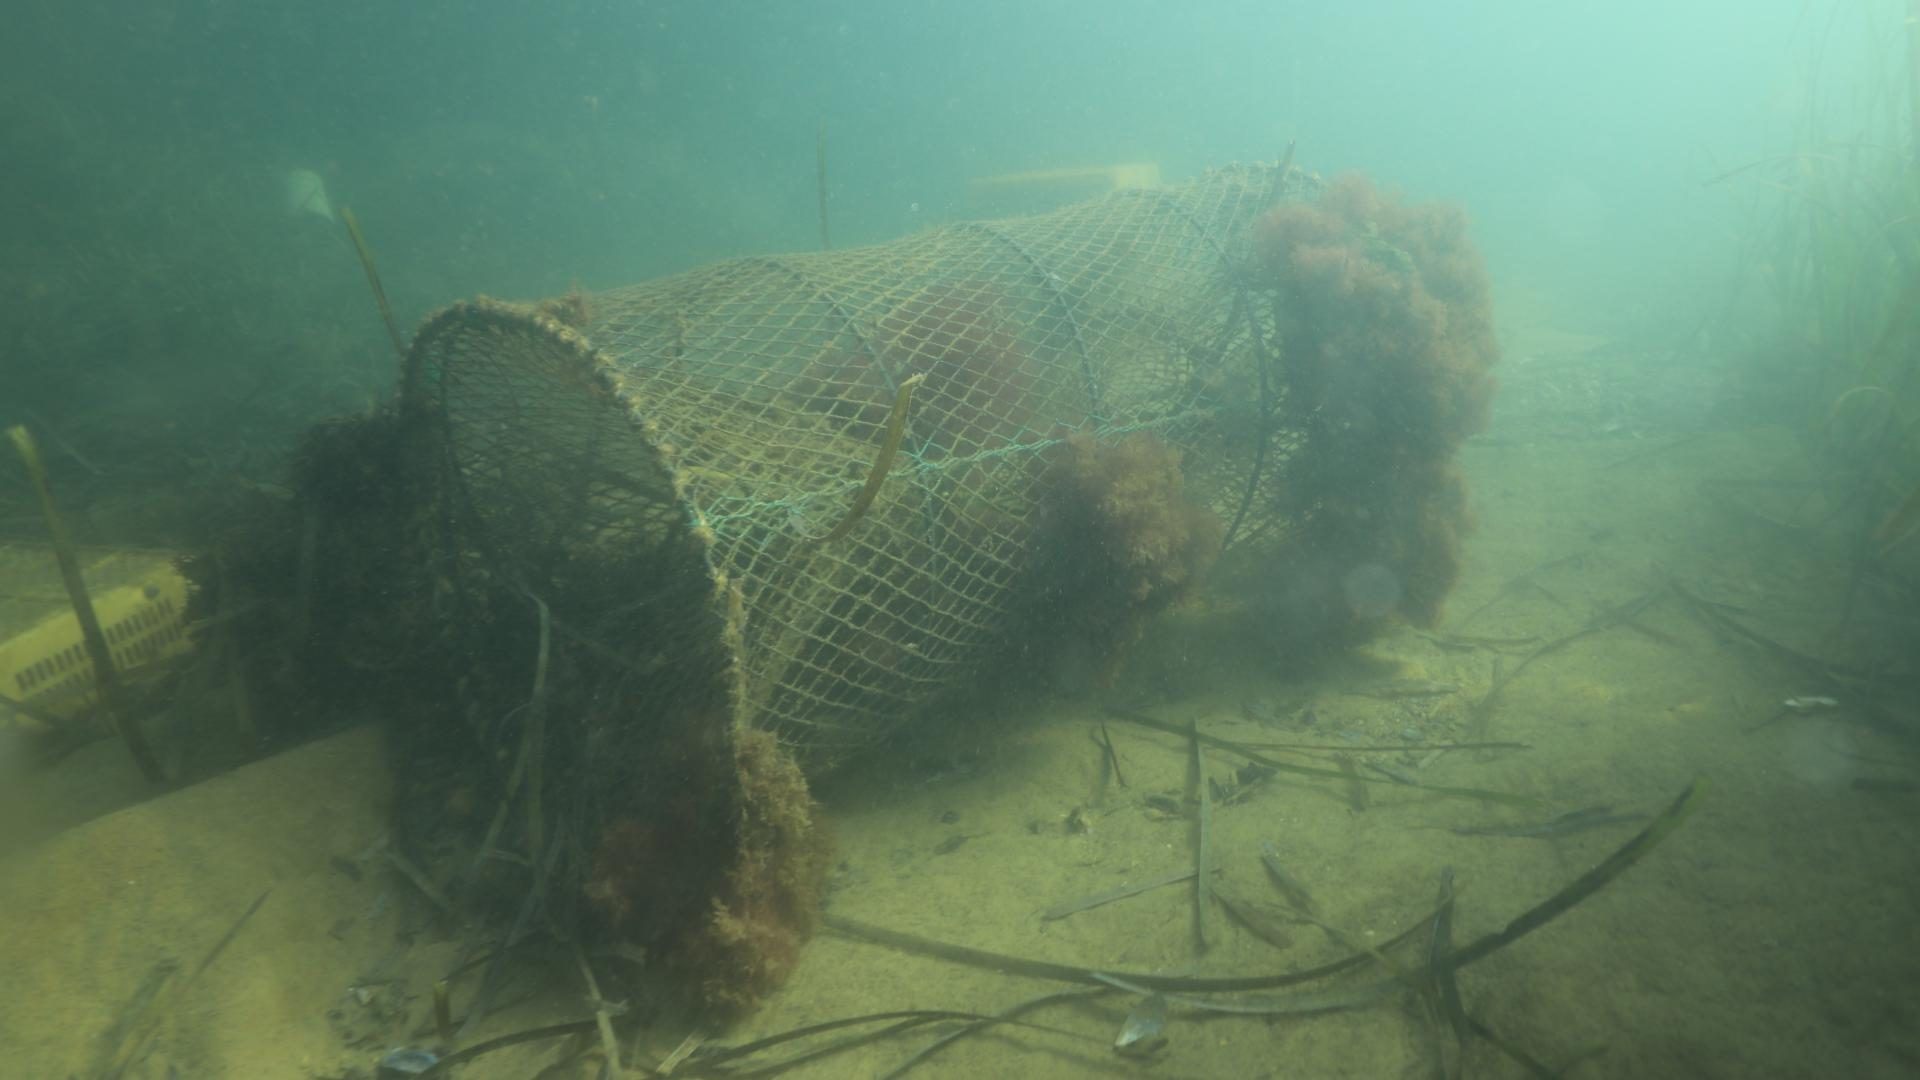spring fish trap: (382, 157, 1404, 963)
